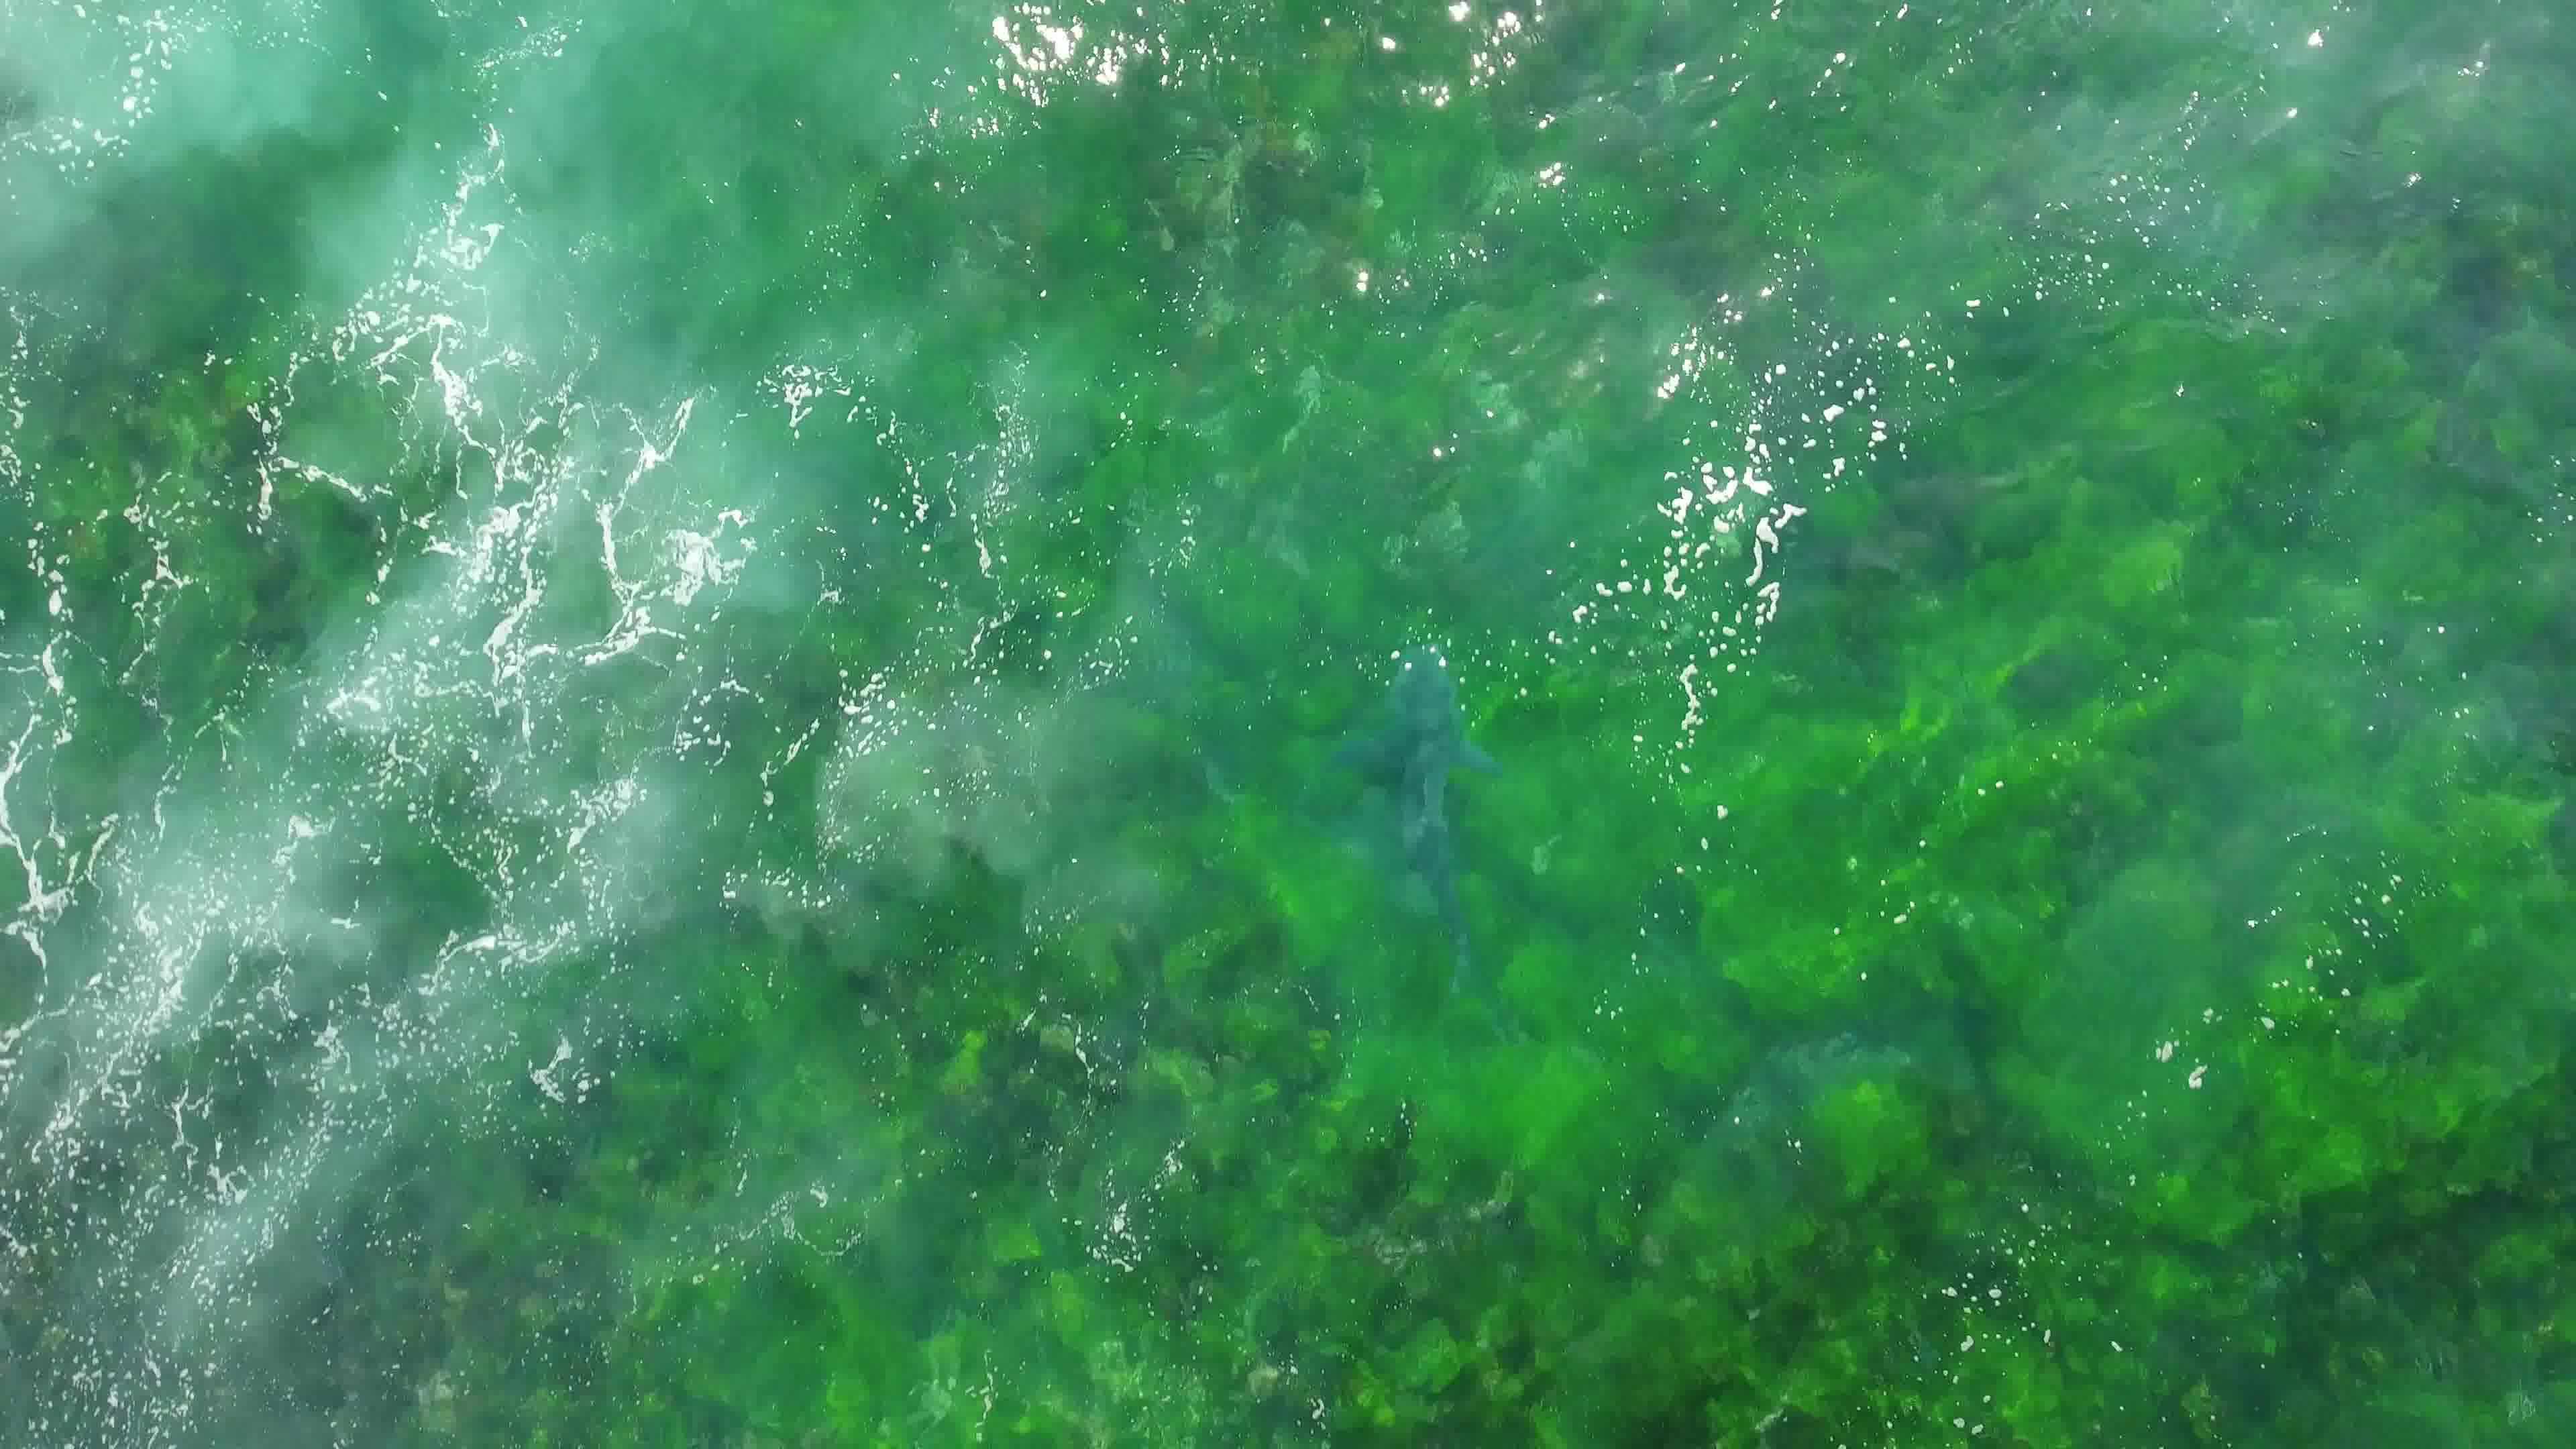shark: (1315, 635, 1511, 994)
